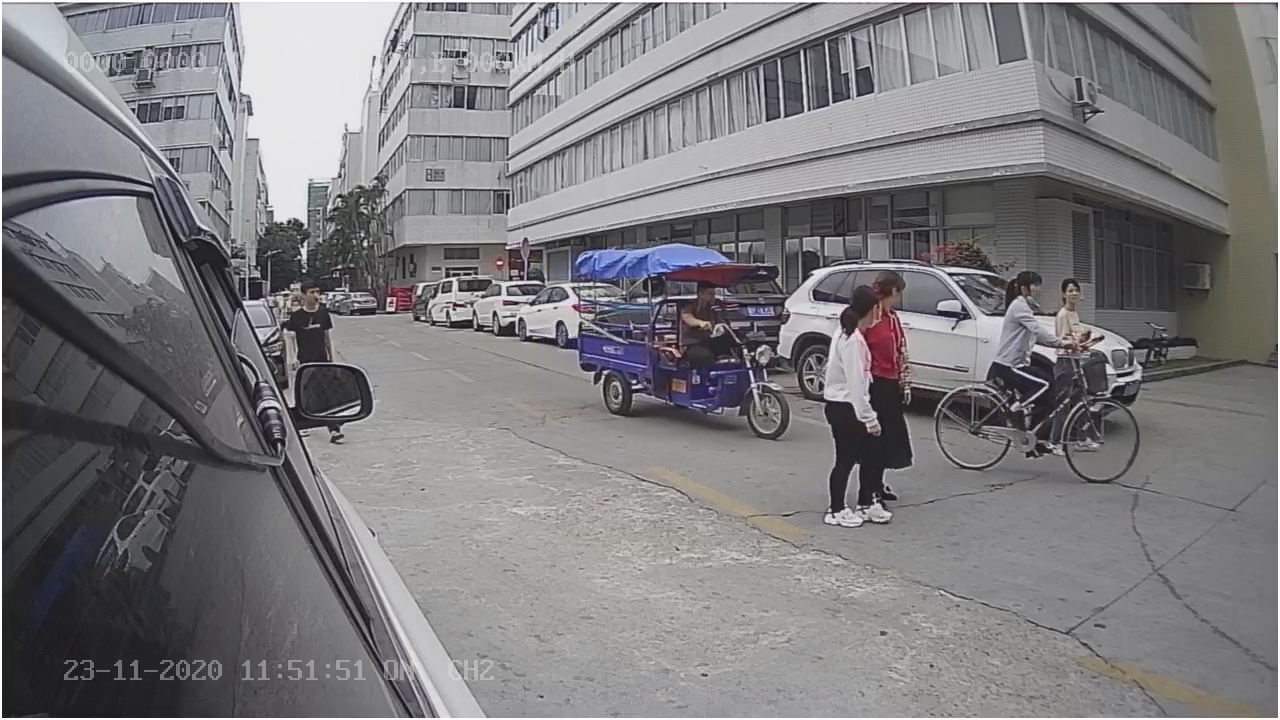person: (821, 285, 893, 526), (998, 270, 1095, 351)
